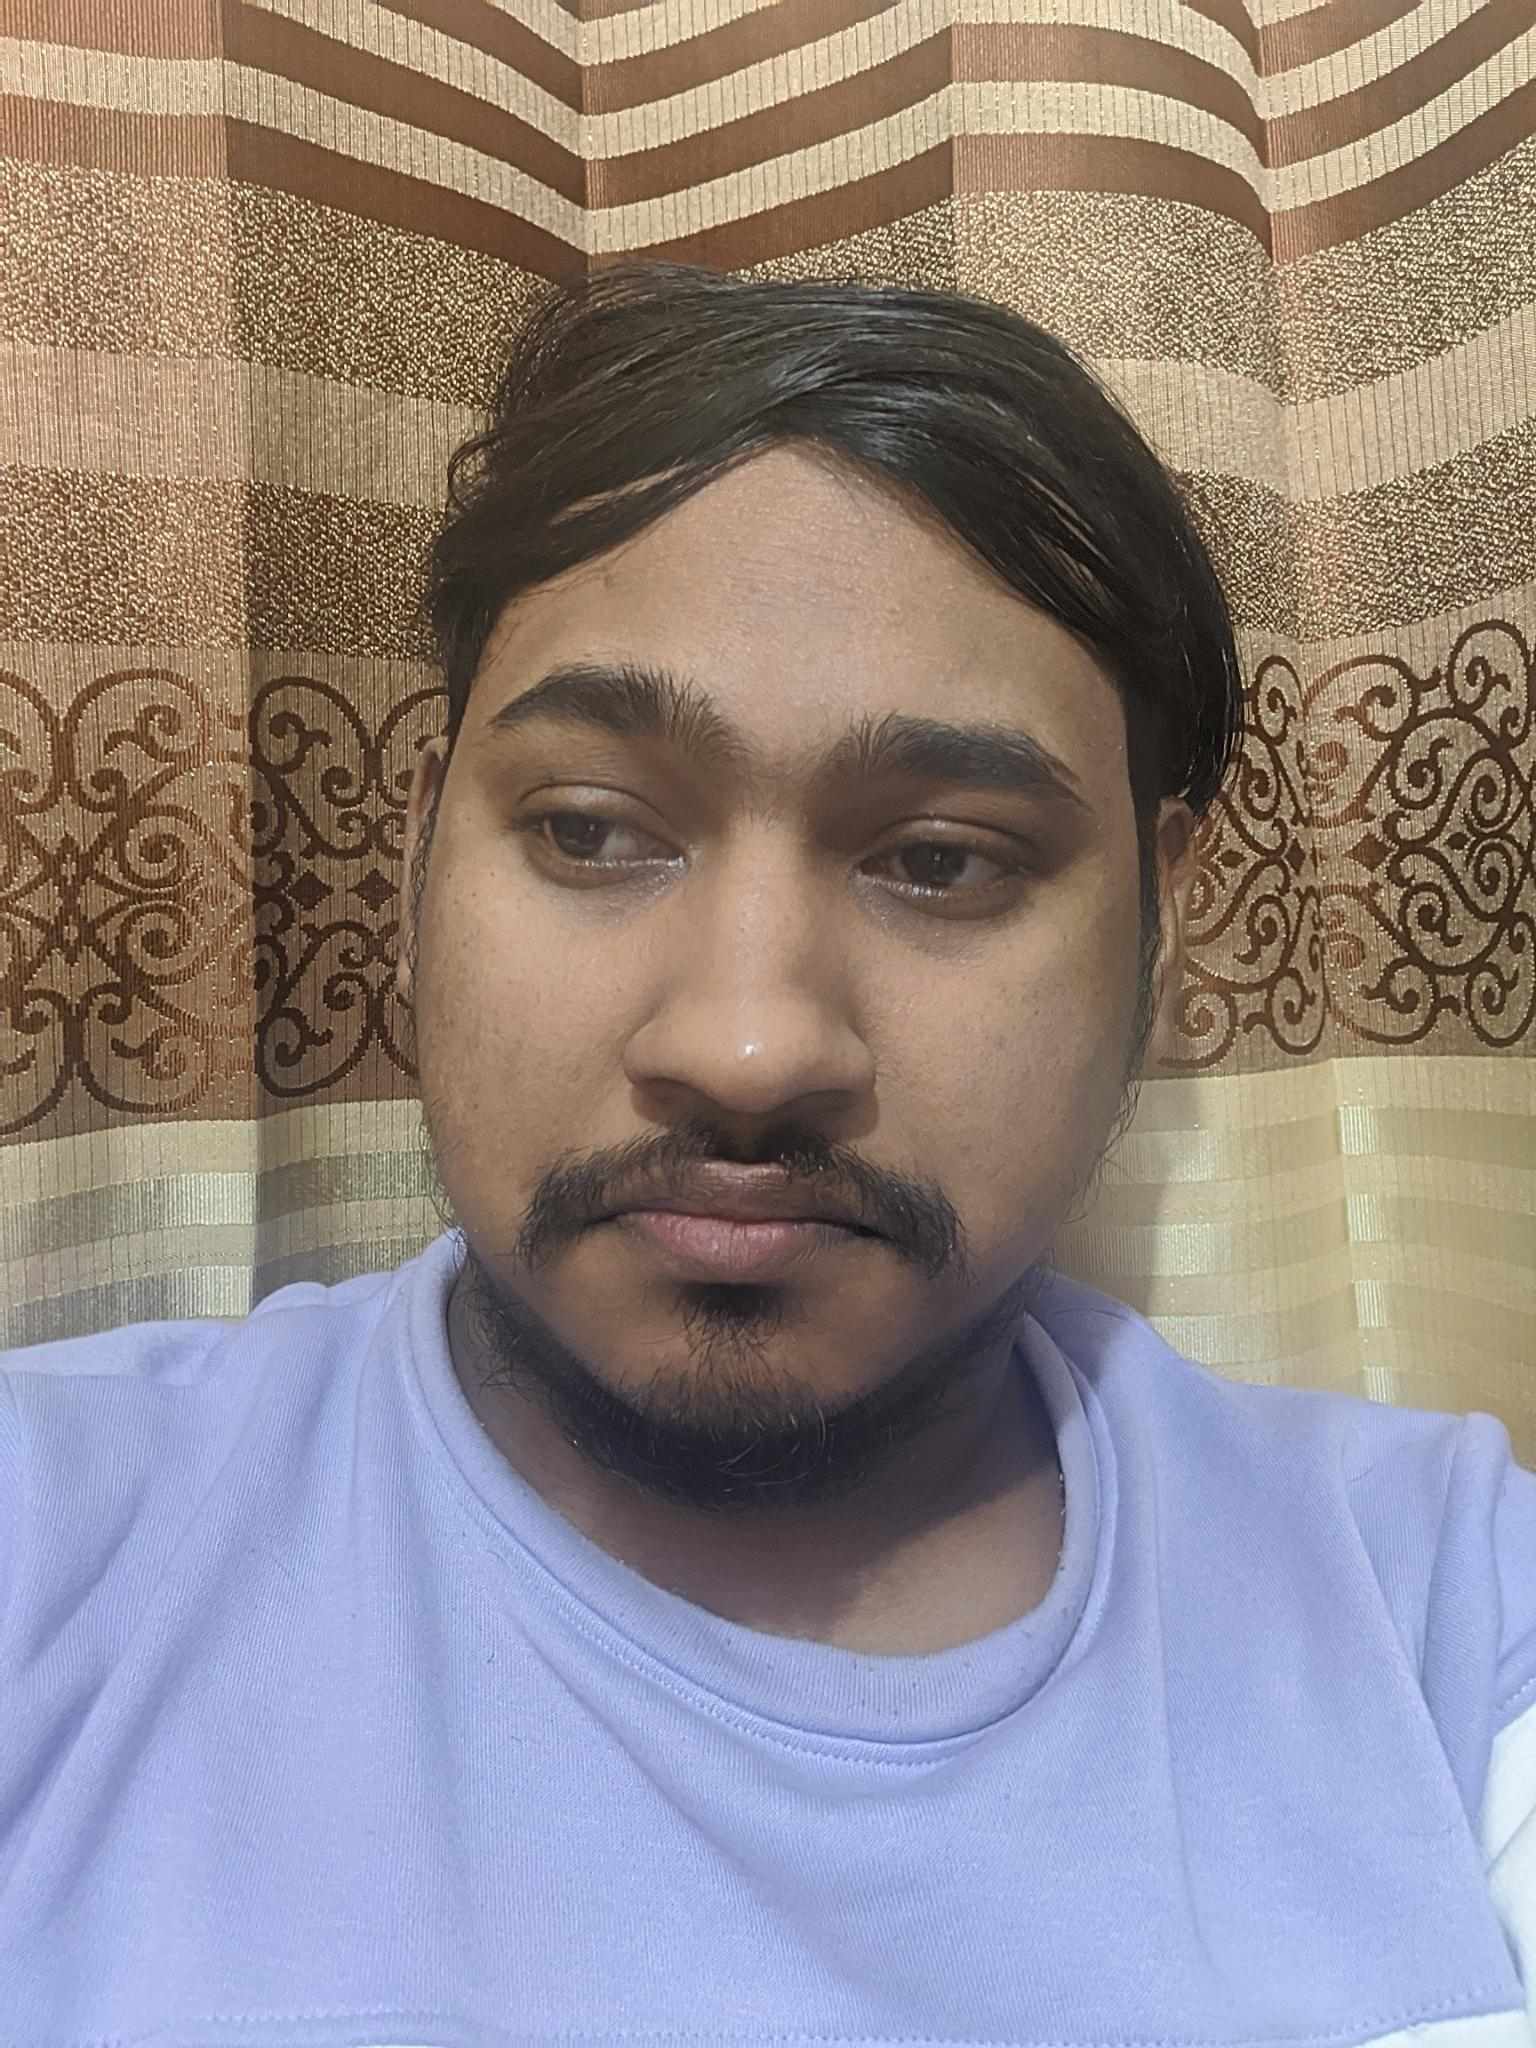Sad: (437, 574, 1134, 1500)
